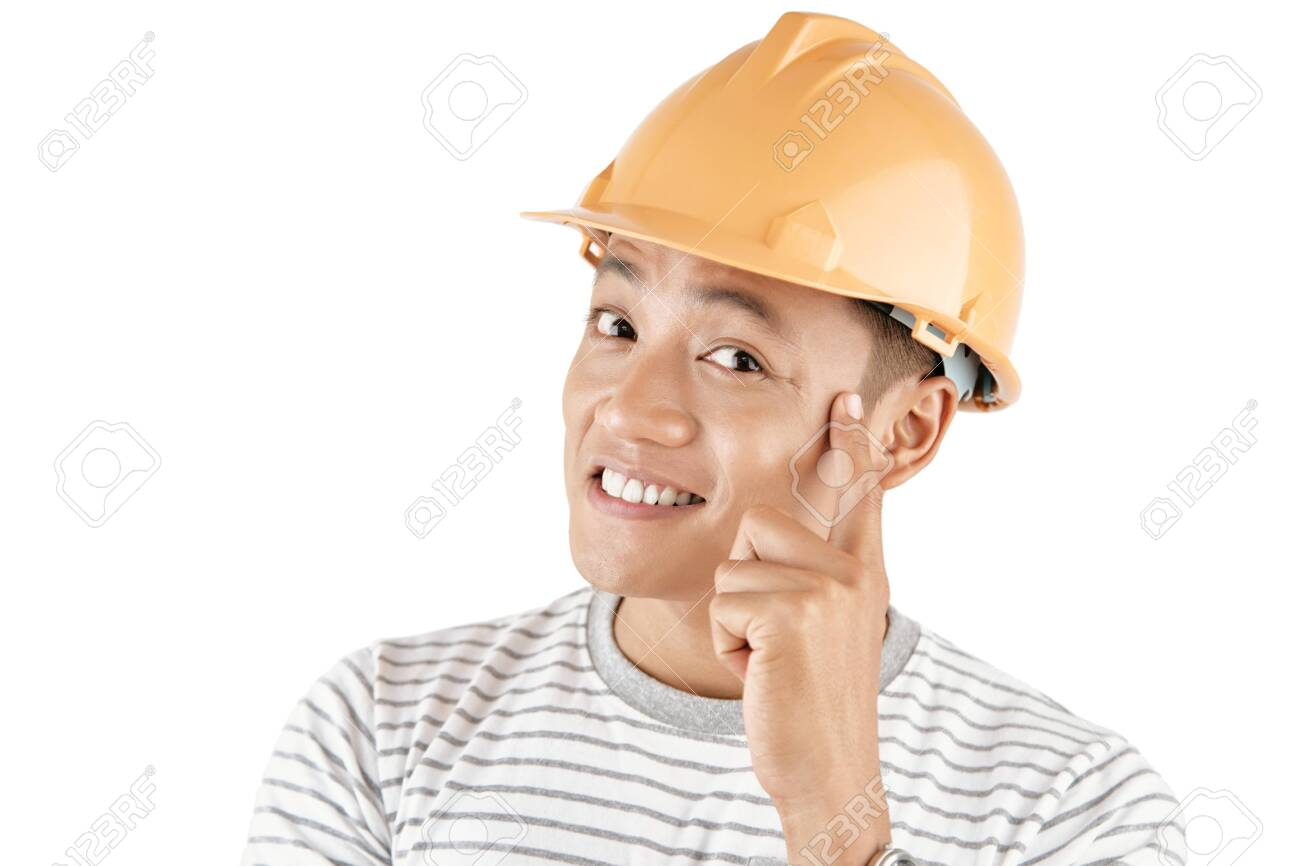Person_wearing_helmet: (523, 1, 1032, 373)
